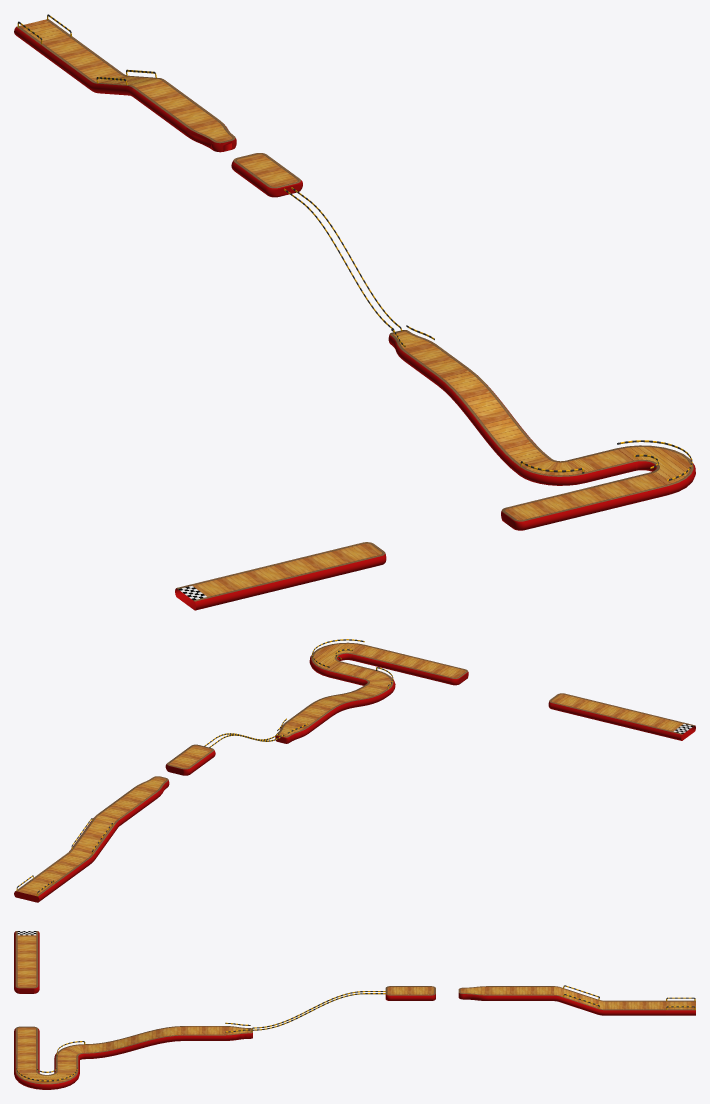
Rendered from map22.fbx.
3 renders of one model, top to bottom at view 1: azimuth 30°, elevation 25°; view 2: azimuth 150°, elevation 25°; view 3: azimuth 270°, elevation 25°, orthographic. The views are drawn at different scales.
Visible parts, largest first — view 1: Terrain_CurveDown_Bar_1, Terrain_Flat_2_2, Terrain_Flat_2__1_, Terrain_Flat_2_1, Terrain_Right_Flat_Bar_U_shape, Terrain_Flat_2, Terrain_Flat_3__1_, Pipe_3_017, Terrain_Flat_3, Terrain_Flat_3_2, Terrain_Flat_3_1, Terrain_Flat_5_1 (+1 smaller); view 2: Terrain_CurveDown_Bar_1, Terrain_Flat_2__1_, Terrain_Flat_2_1, Terrain_Flat_2_2, Terrain_Right_Flat_Bar_U_shape, Terrain_Flat_2, Terrain_CurveUp_Bar_2, Terrain_Flat_3__1_, Terrain_Flat_3_1, Terrain_Flat_3, Terrain_Flat_3_2, Dummy_Start_1 (+3 smaller); view 3: Terrain_CurveDown_Bar_1, Terrain_Right_Flat_Bar_U_shape, Terrain_Flat_2, Terrain_Flat_2_1, Terrain_Flat_2_2, Terrain_Flat_2__1_, Terrain_Flat_3, Terrain_Flat_3_1, Terrain_Flat_3_2, Terrain_CurveUp_Bar_2, Dummy_Start_1, Terrain_Flat_3__1_ (+5 smaller).
Part boxes in pixels (<box>): Terrain_CurveDown_Bar_1: <box>434,368,551,474</box>; Terrain_Flat_2_2: <box>277,542,382,585</box>; Terrain_Flat_2__1_: <box>191,563,296,606</box>; Terrain_Flat_2_1: <box>506,486,611,529</box>; Terrain_Right_Flat_Bar_U_shape: <box>617,440,695,494</box>; Terrain_Flat_2: <box>39,37,122,88</box>; Terrain_Flat_3__1_: <box>592,472,669,508</box>; Pipe_3_017: <box>517,459,585,485</box>; Terrain_Flat_3: <box>131,80,197,120</box>; Terrain_Flat_3_2: <box>401,344,468,383</box>; Terrain_Flat_3_1: <box>232,154,299,194</box>; Terrain_Flat_5_1: <box>581,448,636,479</box>; Terrain_CurveDown_Bar_1: <box>309,684,390,716</box>; Terrain_Flat_2__1_: <box>611,708,684,738</box>; Terrain_Flat_2_1: <box>391,654,464,684</box>; Terrain_Flat_2_2: <box>551,693,624,723</box>; Terrain_Right_Flat_Bar_U_shape: <box>309,639,364,677</box>; Terrain_Flat_2: <box>33,853,91,889</box>; Terrain_CurveUp_Bar_2: <box>71,818,117,857</box>; Terrain_Flat_3__1_: <box>351,645,404,670</box>; Terrain_Flat_3_1: <box>168,746,214,773</box>; Terrain_Flat_3: <box>97,797,144,825</box>; Terrain_Flat_3_2: <box>286,705,332,732</box>; Dummy_Start_1: <box>14,878,56,902</box>; Terrain_CurveDown_Bar_1: <box>84,1026,185,1059</box>; Terrain_Right_Flat_Bar_U_shape: <box>14,1067,79,1089</box>; Terrain_Flat_2: <box>605,1000,665,1015</box>; Terrain_Flat_2_1: <box>14,1028,39,1055</box>; Terrain_Flat_2_2: <box>14,960,39,987</box>; Terrain_Flat_2__1_: <box>14,935,39,962</box>; Terrain_Flat_3: <box>513,986,553,1000</box>; Terrain_Flat_3_1: <box>390,986,430,1000</box>; Terrain_Flat_3_2: <box>185,1026,225,1040</box>; Terrain_CurveUp_Bar_2: <box>559,987,598,1014</box>; Dummy_Start_1: <box>666,1000,695,1015</box>; Terrain_Flat_3__1_: <box>14,1054,39,1072</box>.
Size of the model in its own units: 7244 by 1422 by 13569.
Materials: 11 (4 with a texture image).
